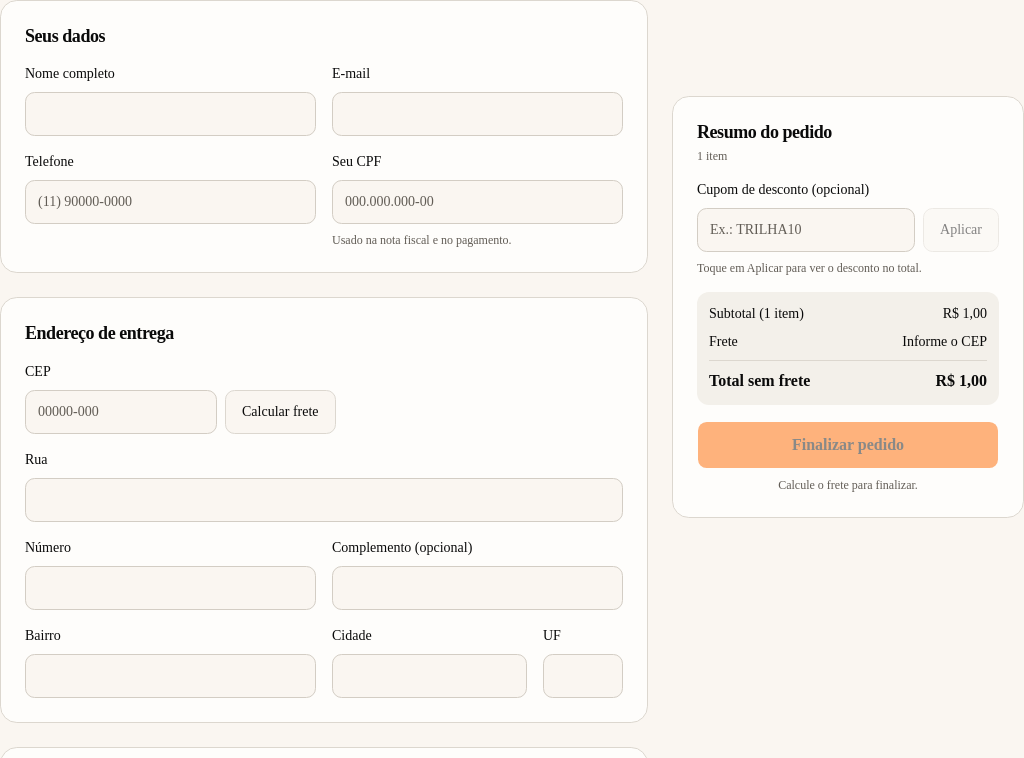
Test: focuses the first field that blocks the order, not a CEP the lookup did not find
Type "Luiz Silva" into the field labelled "Nome completo" at (170, 114), box [25,92,316,136]
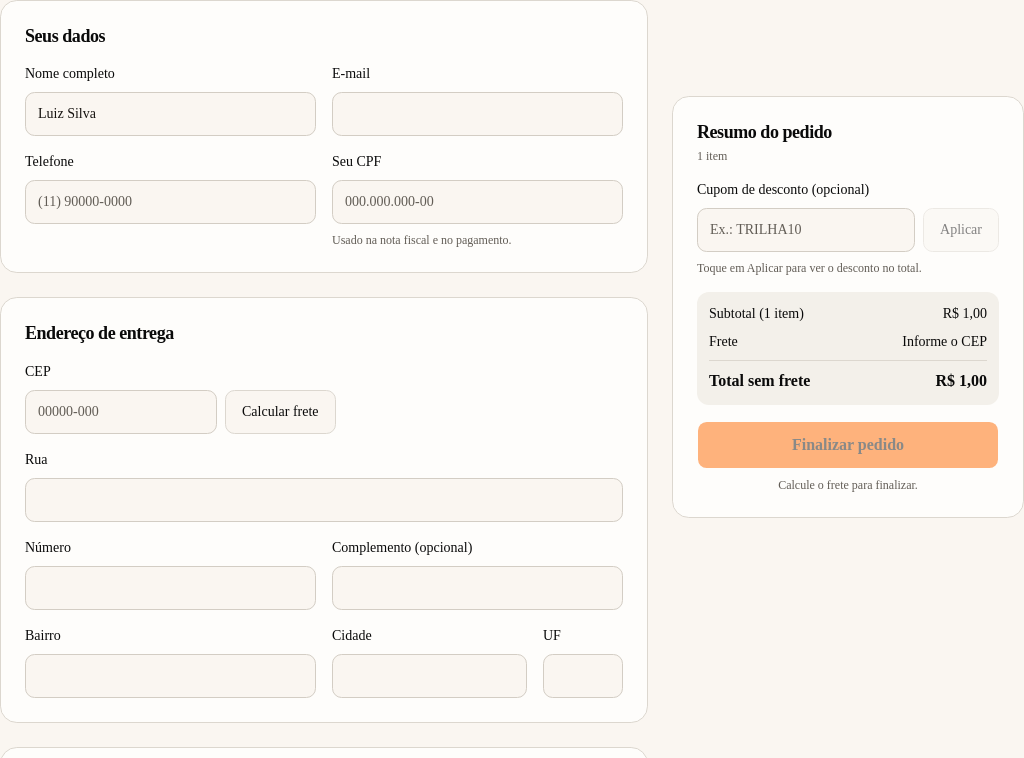
Type "luiz@example.com" into the field labelled "E-mail" at (478, 114), box [332,92,623,136]
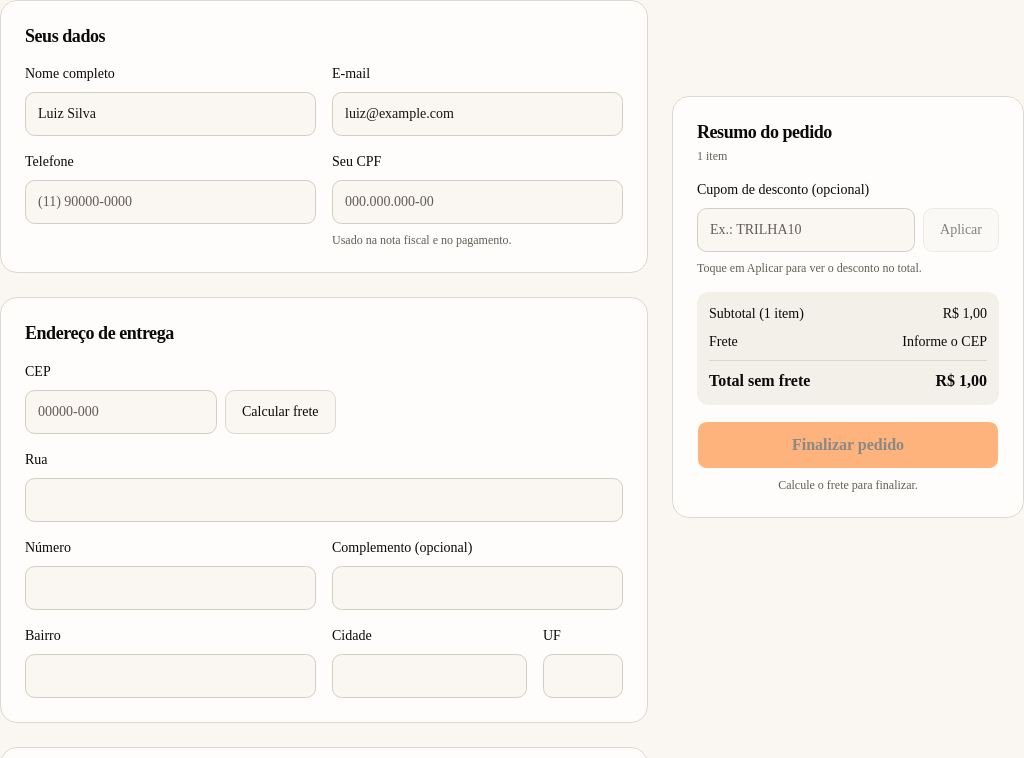
Type "11987654321" into the field labelled "Telefone" at (170, 202), box [25,180,316,224]
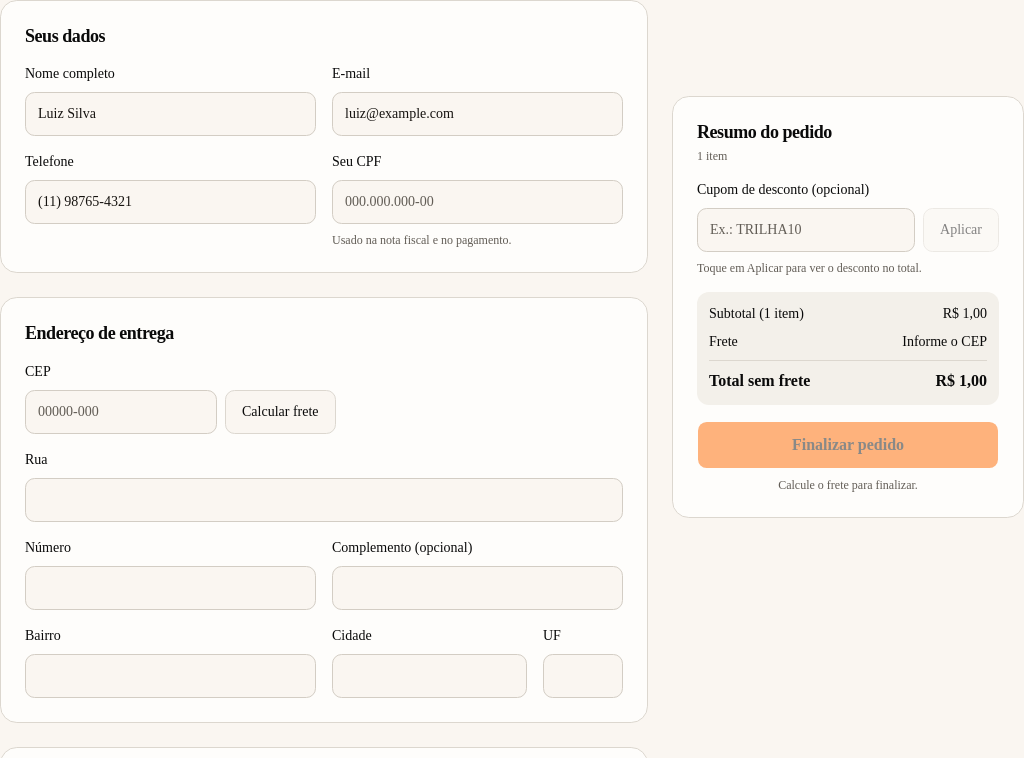
Type "19119119100" into the field labelled "Seu CPF" at (478, 202), box [332,180,623,224]
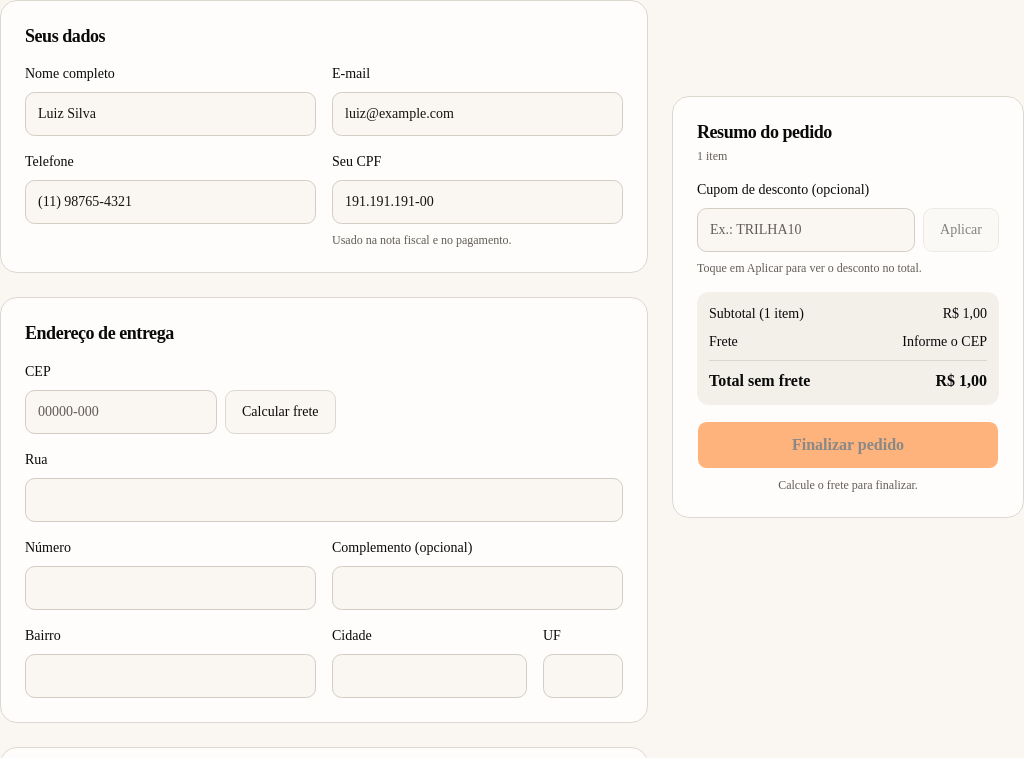
Type "99999999" into the field labelled "CEP" at (121, 412), box [25,390,217,434]
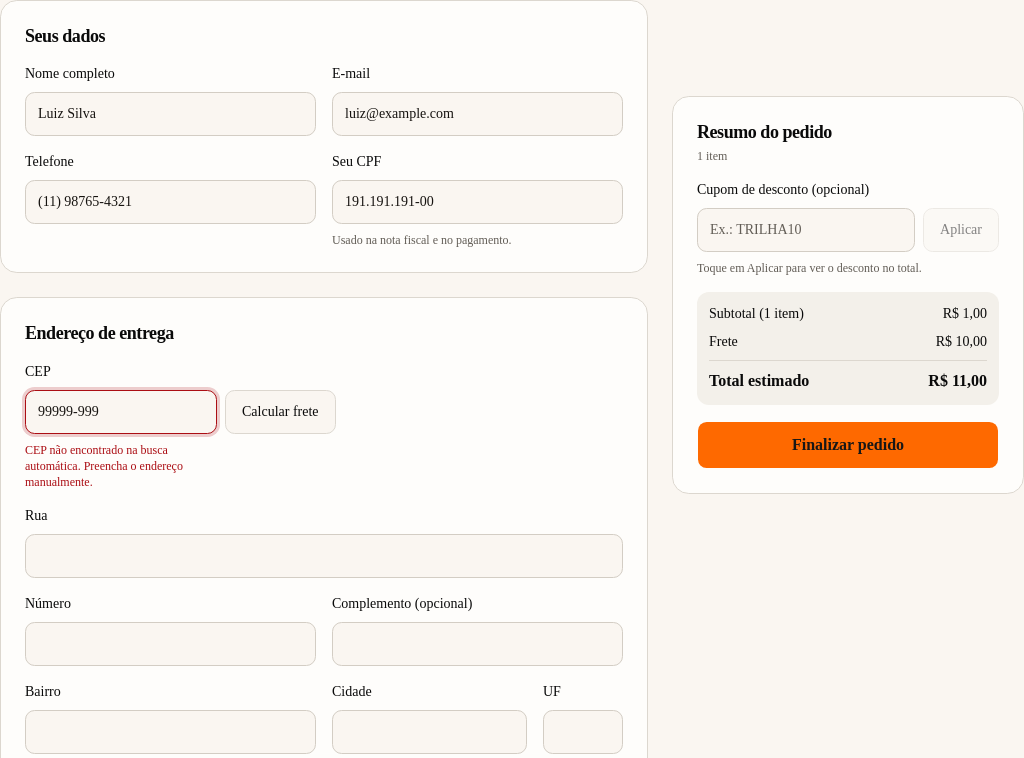
Check: the field labelled "CEP" is marked as invalid, box [25,390,217,434]
Click the button "Finalizar pedido" at (848, 445), box [697,421,999,469]
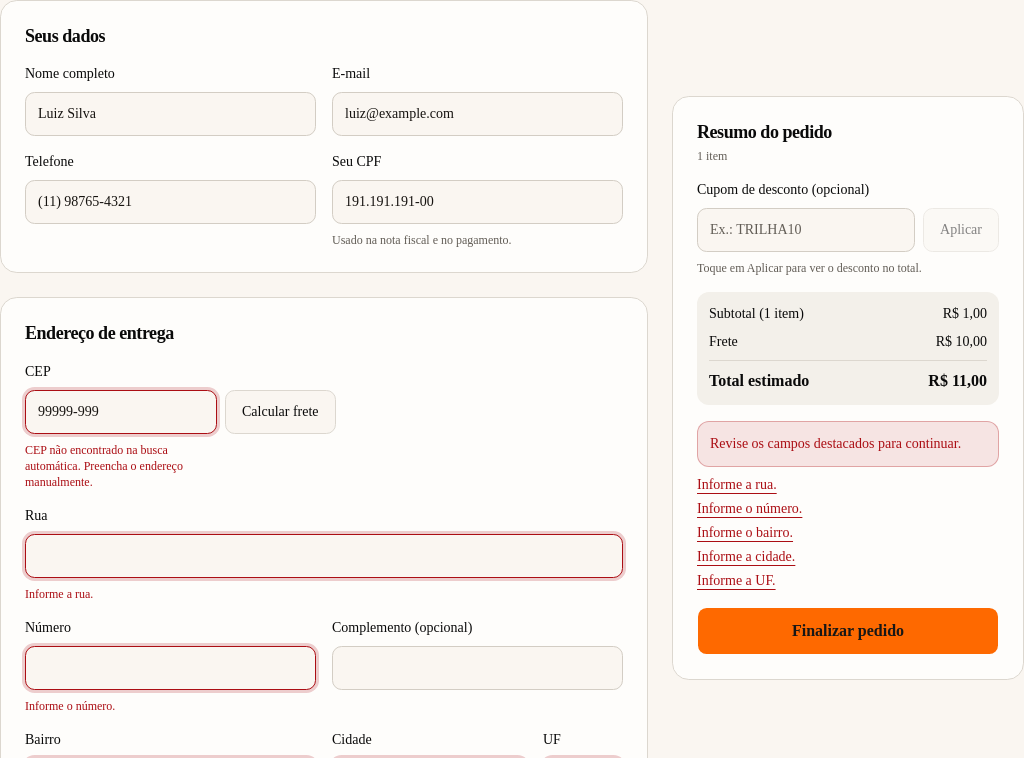
Check: the text "Revise os campos destacados para continuar." is shown, box [697,421,999,467]
